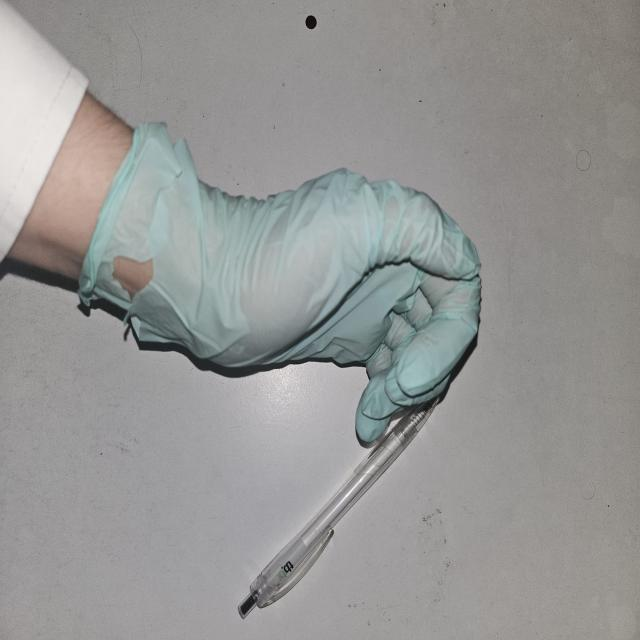gloves_damaged: (80, 120, 482, 440)
